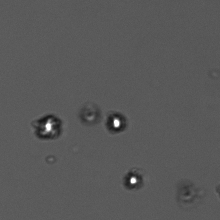Dead Cell: (75, 97, 104, 127), (172, 177, 201, 207)
Living Cell: (26, 109, 70, 146), (104, 110, 129, 133), (120, 167, 145, 190)
